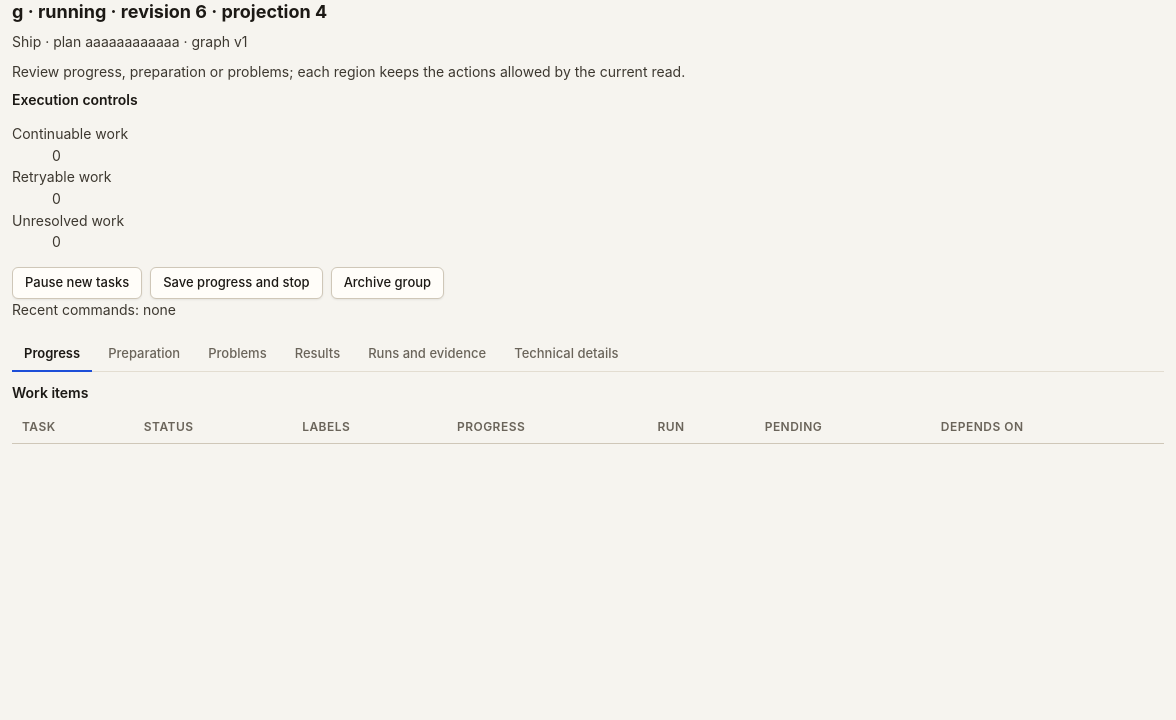
Test: member preparation preserves the owner-only limit restriction
Click the tab "Preparation" at coordinates (144, 355), box [96,337,192,372]
(page scrolled)
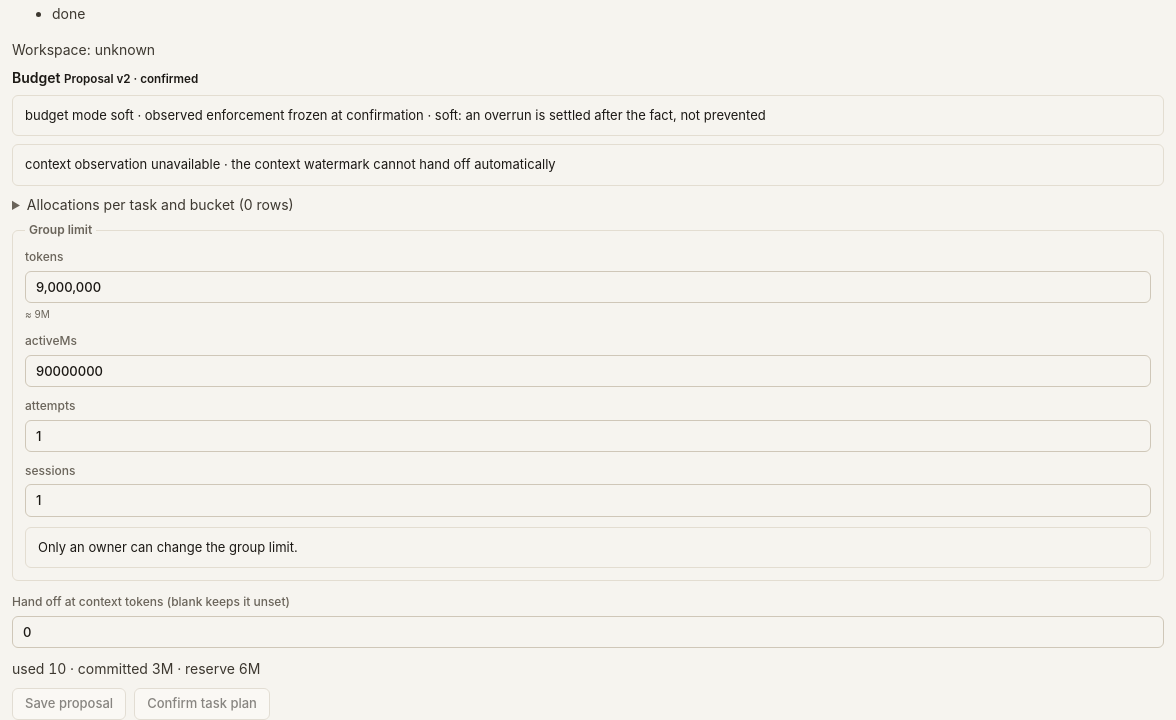
Expected: the text "Only an owner can change the group limit." is shown, [25,527,1151,568]
